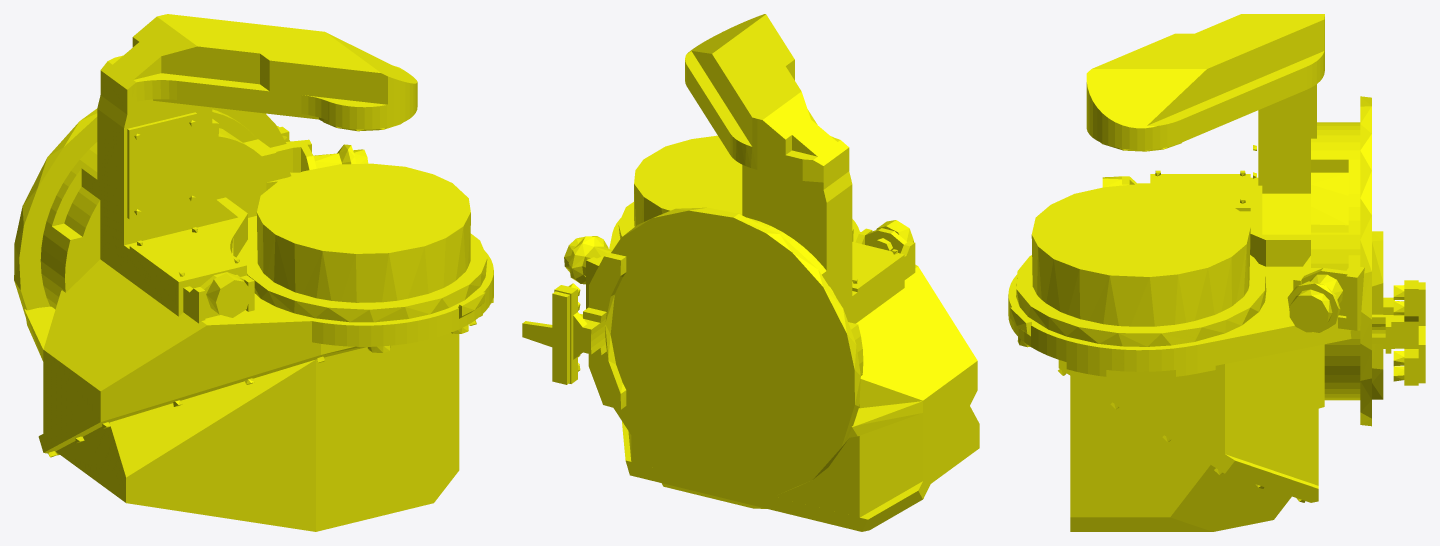
3 views of the same model, side by side, from view 1: azimuth 30°, elevation 25°; view 2: azimuth 150°, elevation 25°; view 3: azimuth 270°, elevation 25° (orthographic). The views are drawn at different scales.
Parts seen in each view (by area): view 1: node; view 2: node; view 3: node.
Boxes of the visible parts, <box> form: node: <box>14,14,493,531</box>; node: <box>522,14,979,531</box>; node: <box>1008,14,1425,531</box>.
Size of the model in its own units: 566 by 632 by 540.
